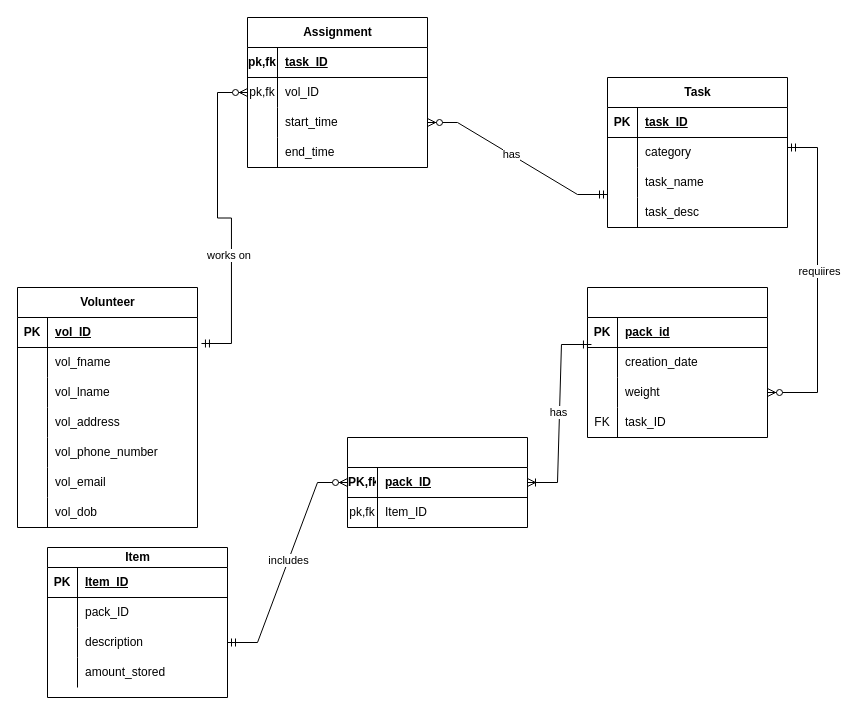
The diagram is 857 pixels wide and 715 high, and some of its shapes have lost their labels. Each missing label, with the box of its shape:
Package: (586, 286, 768, 438)
tracking: (346, 436, 528, 528)
